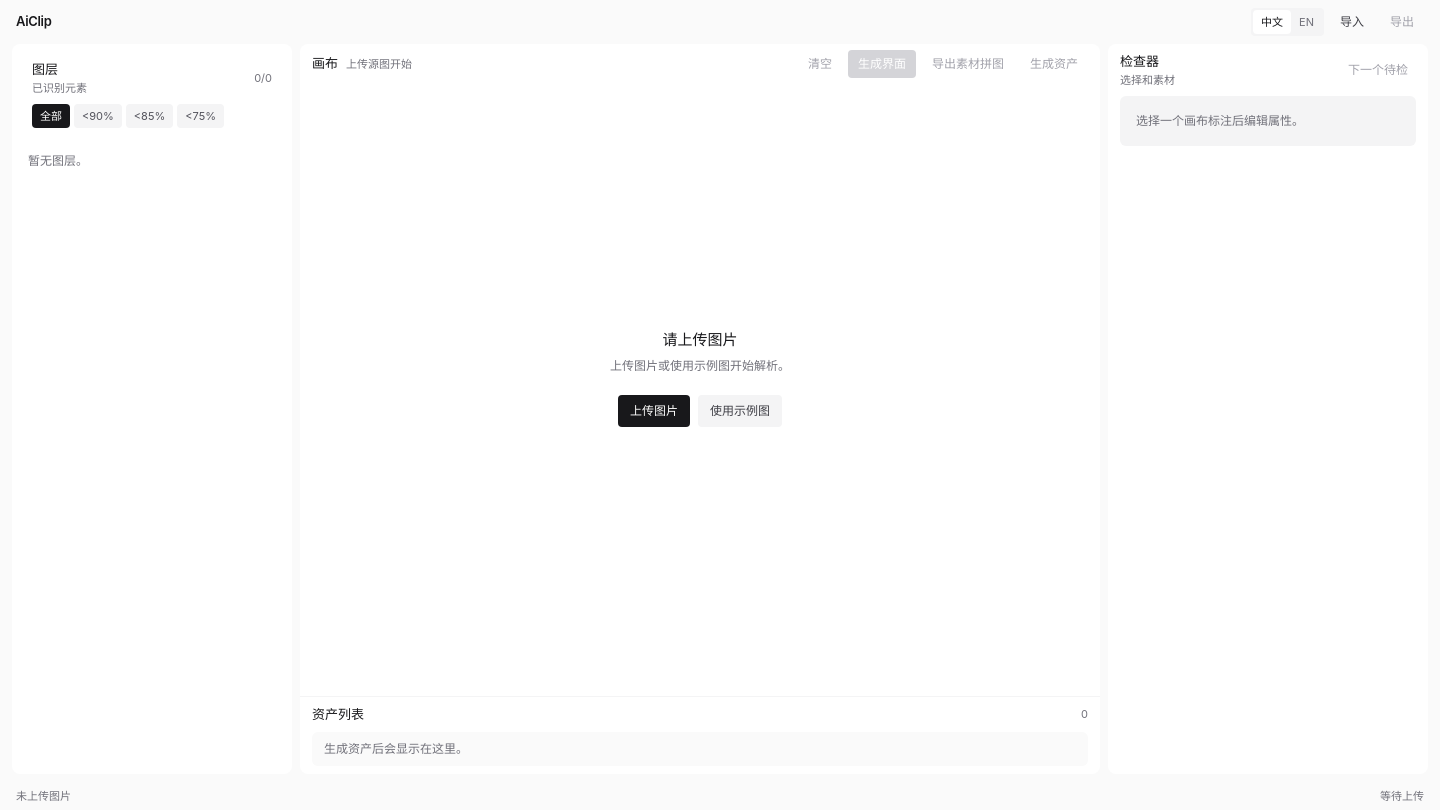
Test case: Workspace › switches visible workspace copy between Chinese and English
This screenshot has width=1440, height=810.
Click the button "EN": (1307, 22) [1291, 10, 1322, 34]
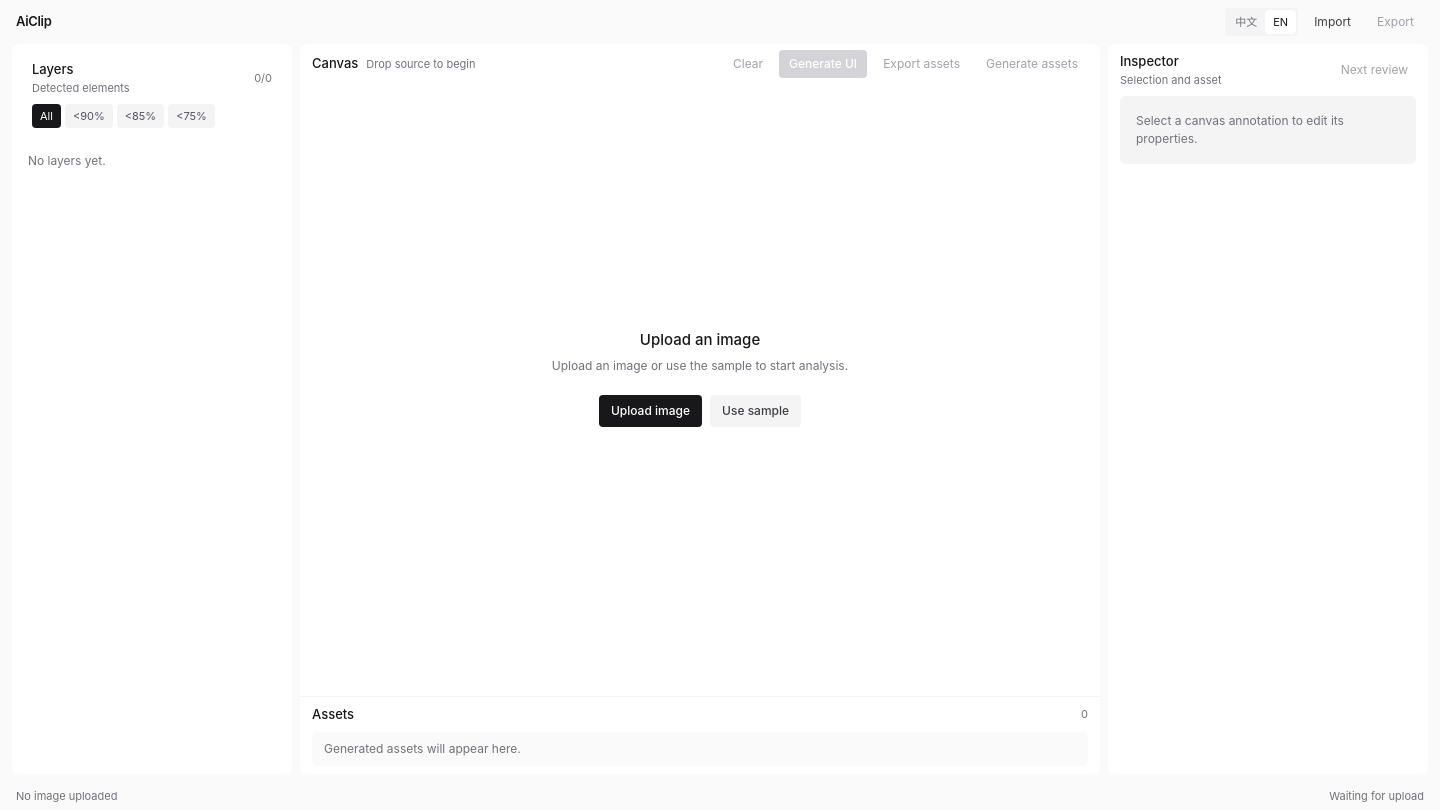
Result: the heading "Canvas" is shown at [312, 54, 358, 74]
Result: the heading "Inspector" is shown at [1120, 53, 1179, 69]
Result: the button "Generate UI" is shown at [779, 50, 867, 78]
Click the button "中文": (1246, 22) [1227, 10, 1265, 34]
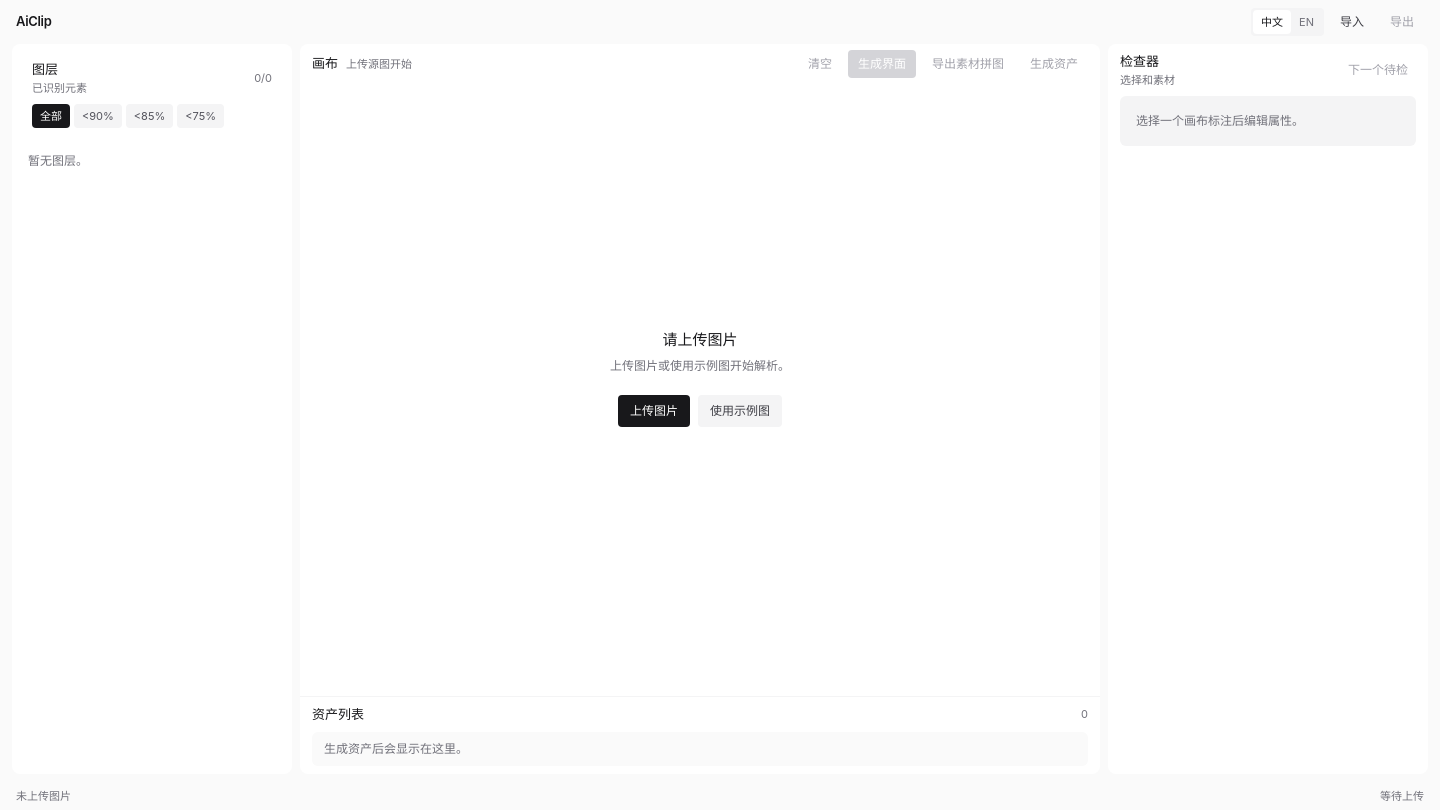
Result: the heading "画布" is shown at [312, 54, 338, 74]
